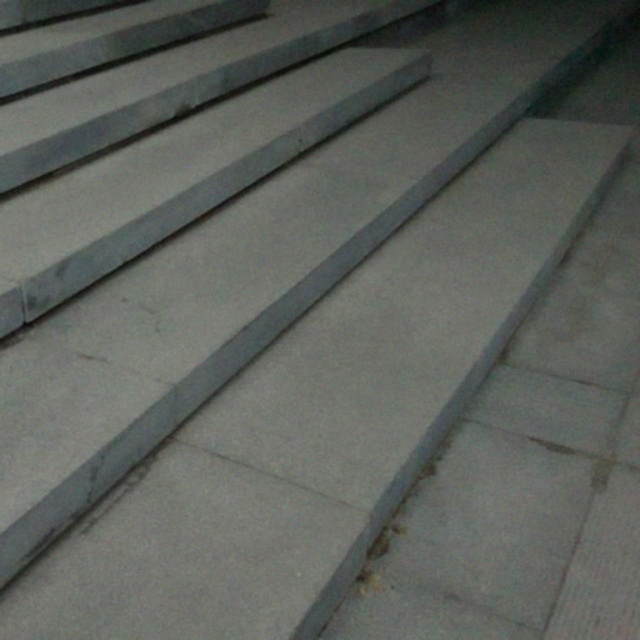stair: (0, 0, 489, 578)
